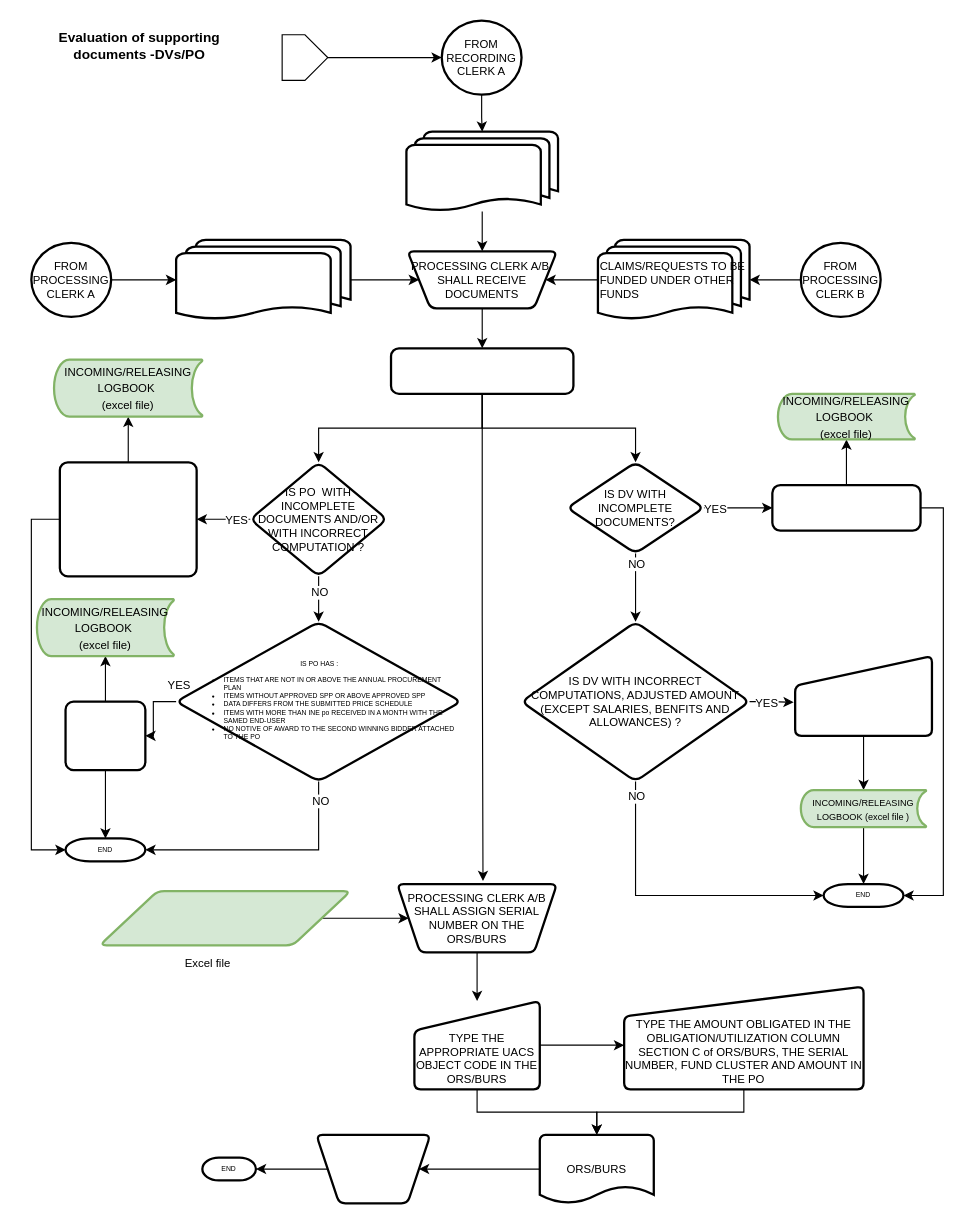
The diagram is 972 pixels wide and 1224 high, and some of its shapes have lost their labels. The shapes that lost their labels are listed below. From the top down, each one's box as (x1, y1, x2, y2) in pixels, then its label:
(281, 34, 328, 80): Evaluation of supporting documents and computation
(405, 130, 559, 212): POs OR SCHEDULE OF DELIVERIES OR DVs
(174, 238, 351, 320): CLAIMS/REQUESTS TO BE FUNDED UNDER GAA/SAA
(389, 347, 574, 394): EVALUATES ACCURACY OF DOCUMENTS AND ACCURACY OF AMOUNT
(58, 461, 197, 577): RETURN TO PMO FOR COMPLETION OF DCUMENTS AND/OR CORRECTION OF AMOUNT
(771, 483, 921, 531): RETURN TO END-USER FOR COMPLETION
(793, 654, 933, 736): RECORD TO DESIGNATED INCOMING/RELEASING LOGBOOK
(64, 700, 146, 771): RETURN TO PMO FOR APPROPRIATE ACTION
(98, 889, 351, 946): OBLIGATION CONTROL LOGBOOK MAINTAINED FOR THAT PURPOSE
(315, 1133, 431, 1204): FORWARD DOCUMENTTS TO AO V
